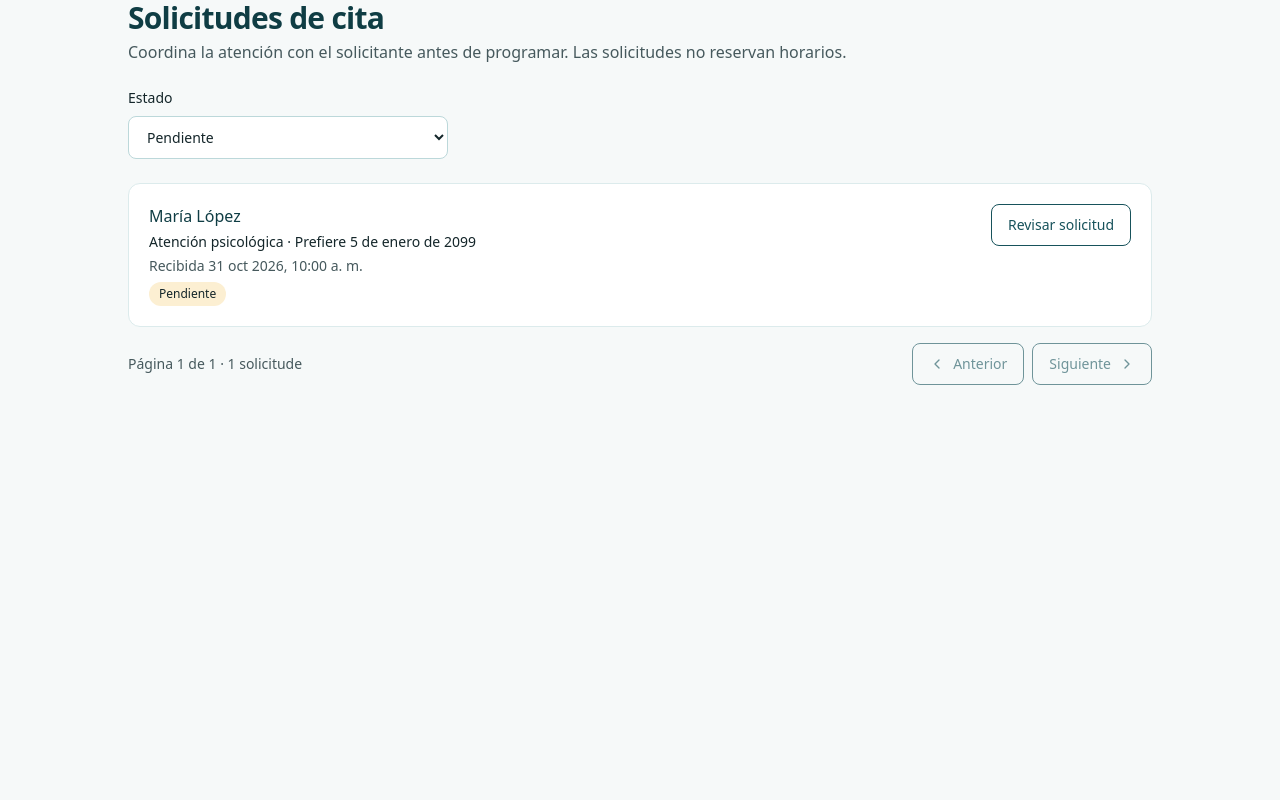
Solicitudes administrativas › filtra por estado y consulta el detalle
Click the button with aria-label "Revisar solicitud de María López" at {"x": 1061, "y": 225}, box [991,204,1131,246]
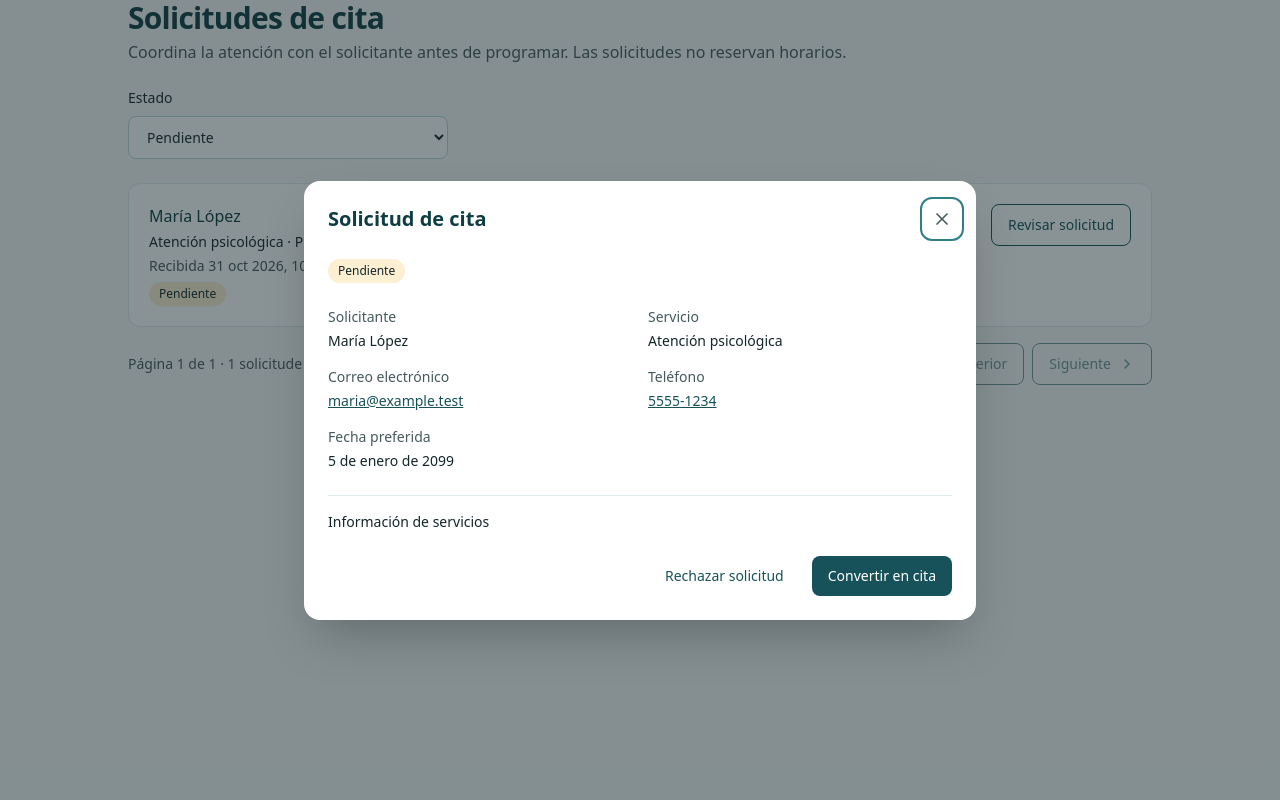
Expected: the link "maria@example.test" is shown, [328,390,463,410]
Click the button named "Cerrar" at {"x": 942, "y": 218}, box [924,200,960,236]
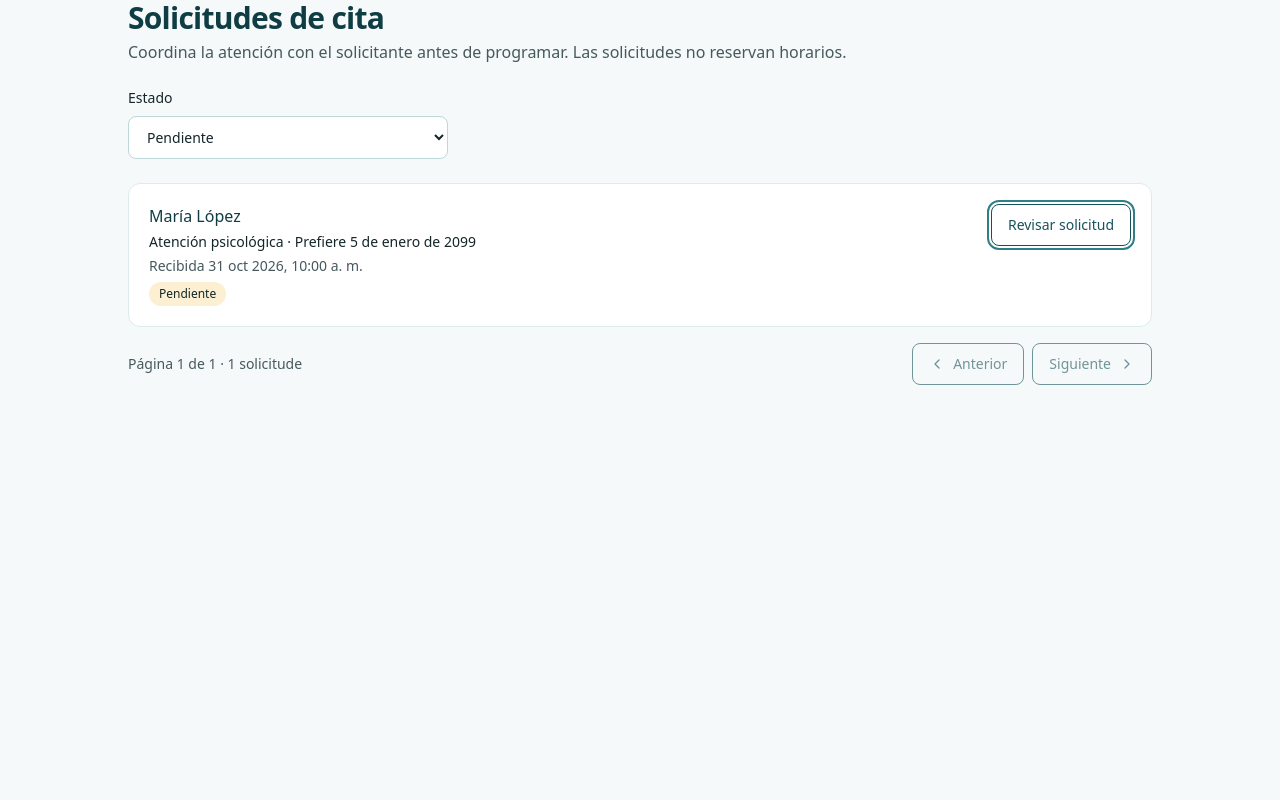
Select "Atendida" in the dropdown labelled "Estado" at {"x": 288, "y": 138}, box [128,116,448,159]
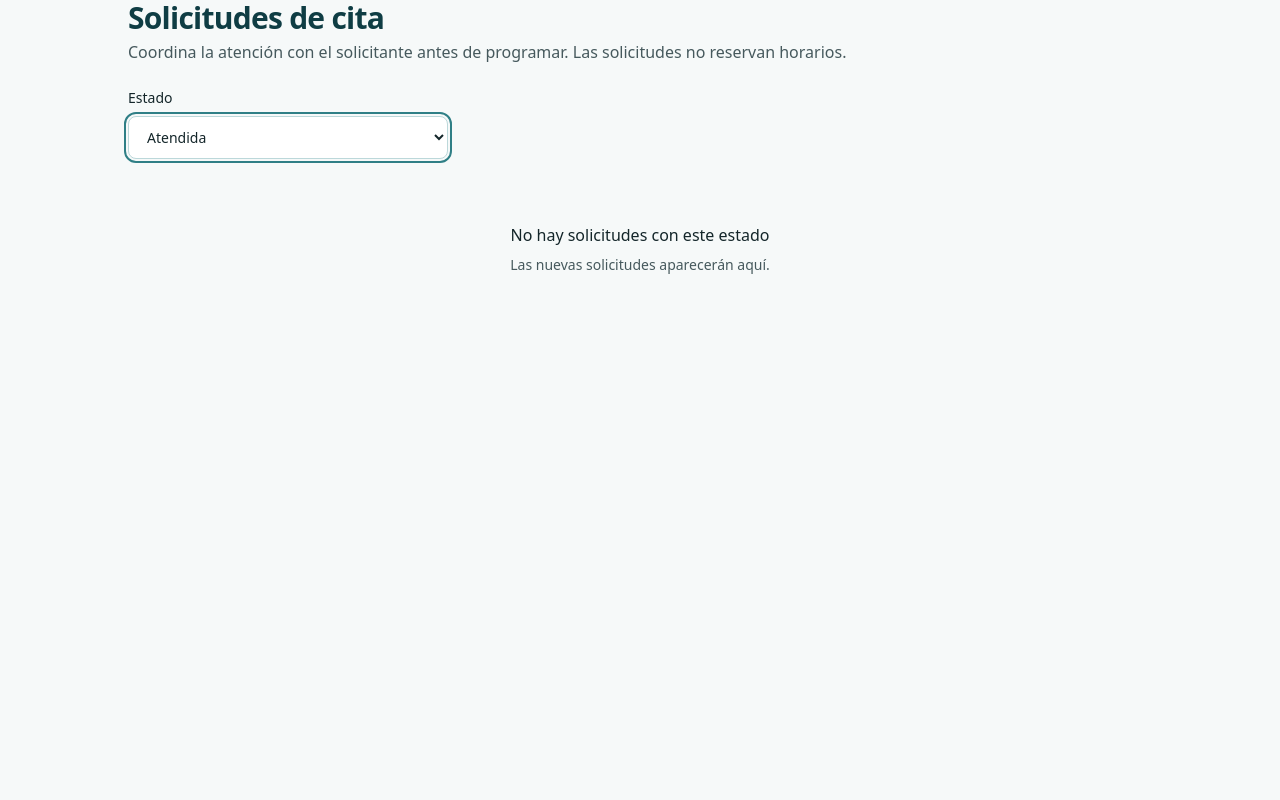
Expected: the text "No hay solicitudes con este estado" is shown, [510,224,770,246]
